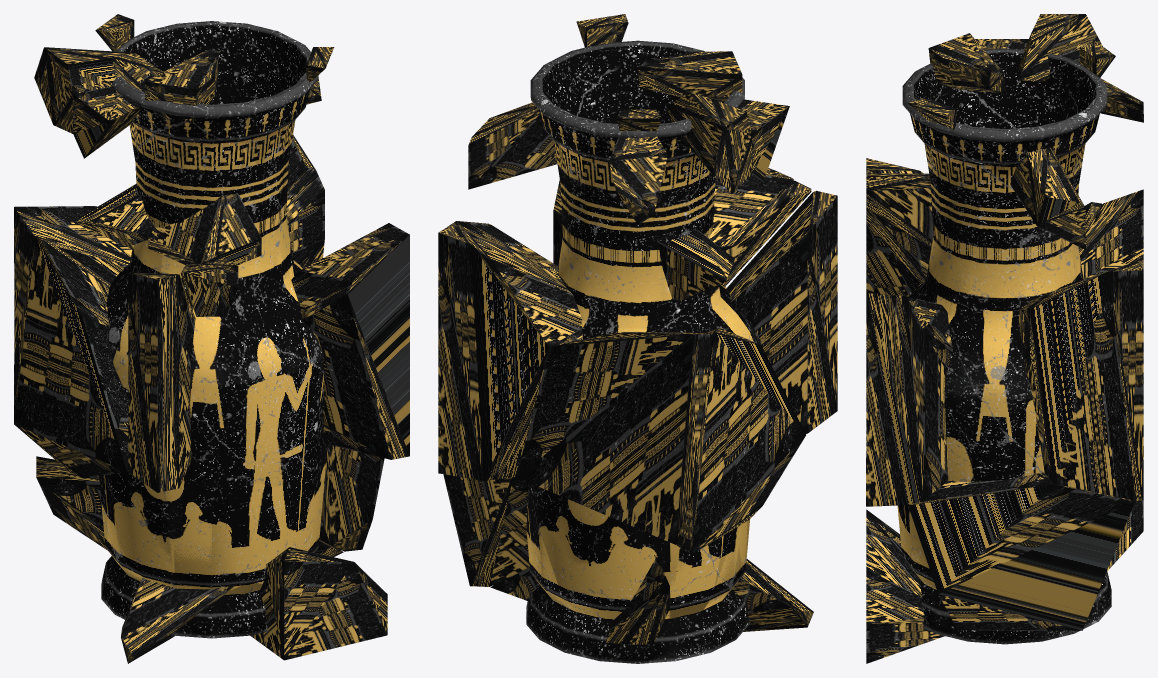
3 views of the same model, side by side, from view 1: azimuth 30°, elevation 25°; view 2: azimuth 150°, elevation 25°; view 3: azimuth 270°, elevation 25° (orthographic). The views are drawn at different scales.
Parts seen in each view (by area): view 1: vase_A_S4, vase_A_S4_cell.018, vase_A_S4_cell.068, vase_A_S4_cell.049, vase_A_S4_cell.010, vase_A_S4_cell.003, vase_A_S4_cell.074, vase_A_S4_cell.089, vase_A_S4_cell.046, vase_A_S4_cell.063, vase_A_S4_cell.005, vase_A_S4_cell.082 (+28 smaller); view 2: vase_A_S4, vase_A_S4_cell.074, vase_A_S4_cell.024, vase_A_S4_cell.049, vase_A_S4_cell.068, vase_A_S4_cell.005, vase_A_S4_cell.050, vase_A_S4_cell.063, vase_A_S4_cell.041, vase_A_S4_cell.083, vase_A_S4_cell.055, vase_A_S4_cell.046 (+26 smaller); view 3: vase_A_S4, vase_A_S4_cell.005, vase_A_S4_cell.024, vase_A_S4_cell.018, vase_A_S4_cell.021, vase_A_S4_cell.010, vase_A_S4_cell.050, vase_A_S4_cell.074, vase_A_S4_cell.079, vase_A_S4_cell.046, vase_A_S4_cell.063, vase_A_S4_cell.055 (+24 smaller).
Part boxes in pixels (<box>): vase_A_S4: <box>101,21,327,638</box>; vase_A_S4_cell.018: <box>291,223,409,459</box>; vase_A_S4_cell.068: <box>14,237,128,478</box>; vase_A_S4_cell.049: <box>128,272,195,492</box>; vase_A_S4_cell.010: <box>250,547,387,660</box>; vase_A_S4_cell.003: <box>108,470,270,588</box>; vase_A_S4_cell.074: <box>14,206,132,361</box>; vase_A_S4_cell.089: <box>200,326,323,486</box>; vase_A_S4_cell.046: <box>148,193,261,265</box>; vase_A_S4_cell.063: <box>34,47,162,133</box>; vase_A_S4_cell.005: <box>319,444,384,551</box>; vase_A_S4_cell.082: <box>190,317,250,462</box>; vase_A_S4: <box>526,42,761,662</box>; vase_A_S4_cell.074: <box>517,332,713,544</box>; vase_A_S4_cell.024: <box>438,221,582,480</box>; vase_A_S4_cell.049: <box>726,190,837,433</box>; vase_A_S4_cell.068: <box>676,327,805,553</box>; vase_A_S4_cell.005: <box>443,474,529,586</box>; vase_A_S4_cell.050: <box>468,95,557,189</box>; vase_A_S4_cell.063: <box>667,92,751,193</box>; vase_A_S4_cell.041: <box>573,209,624,339</box>; vase_A_S4_cell.083: <box>529,483,661,654</box>; vase_A_S4_cell.055: <box>638,51,742,101</box>; vase_A_S4_cell.046: <box>709,168,793,250</box>; vase_A_S4: <box>897,48,1111,641</box>; vase_A_S4_cell.005: <box>908,472,1134,630</box>; vase_A_S4_cell.024: <box>1018,258,1143,500</box>; vase_A_S4_cell.018: <box>866,293,952,506</box>; vase_A_S4_cell.021: <box>945,352,1043,481</box>; vase_A_S4_cell.010: <box>866,509,944,663</box>; vase_A_S4_cell.050: <box>1010,147,1085,249</box>; vase_A_S4_cell.074: <box>1078,189,1143,279</box>; vase_A_S4_cell.079: <box>948,293,1022,361</box>; vase_A_S4_cell.046: <box>866,173,933,247</box>; vase_A_S4_cell.063: <box>1017,14,1102,81</box>; vase_A_S4_cell.055: <box>928,33,1004,92</box>.
Size of the model in its own units: 77.19 by 164 by 76.2.
